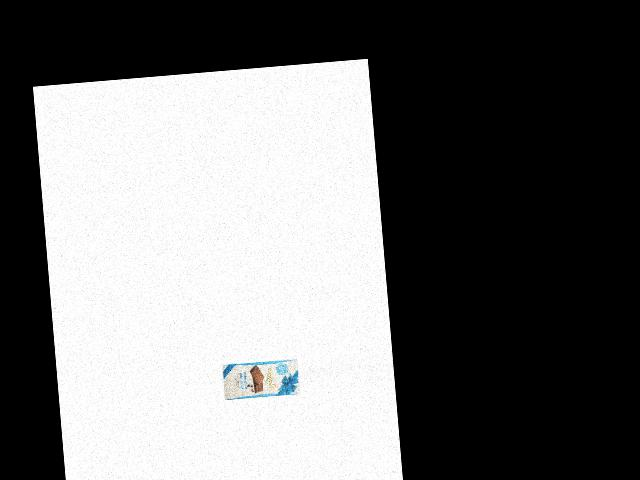chocolate: (219, 355, 301, 405)
